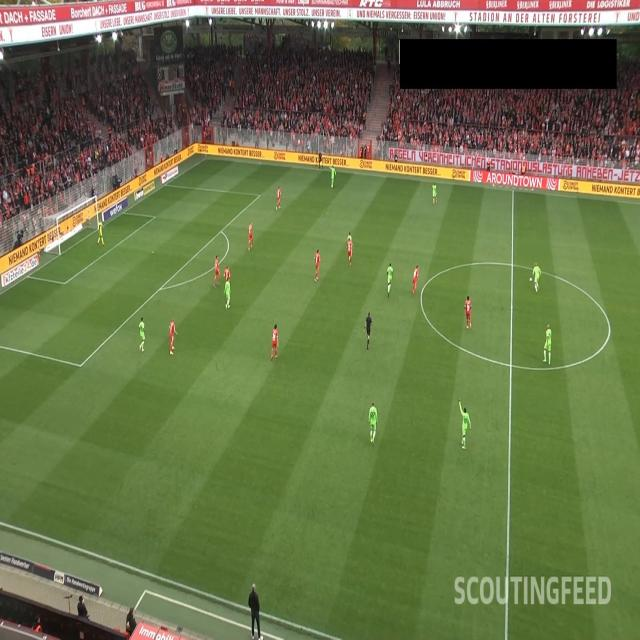ball: (529, 276, 533, 283)
